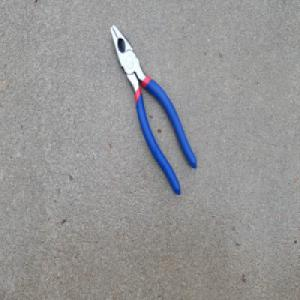Pliers: (108, 20, 197, 197)
